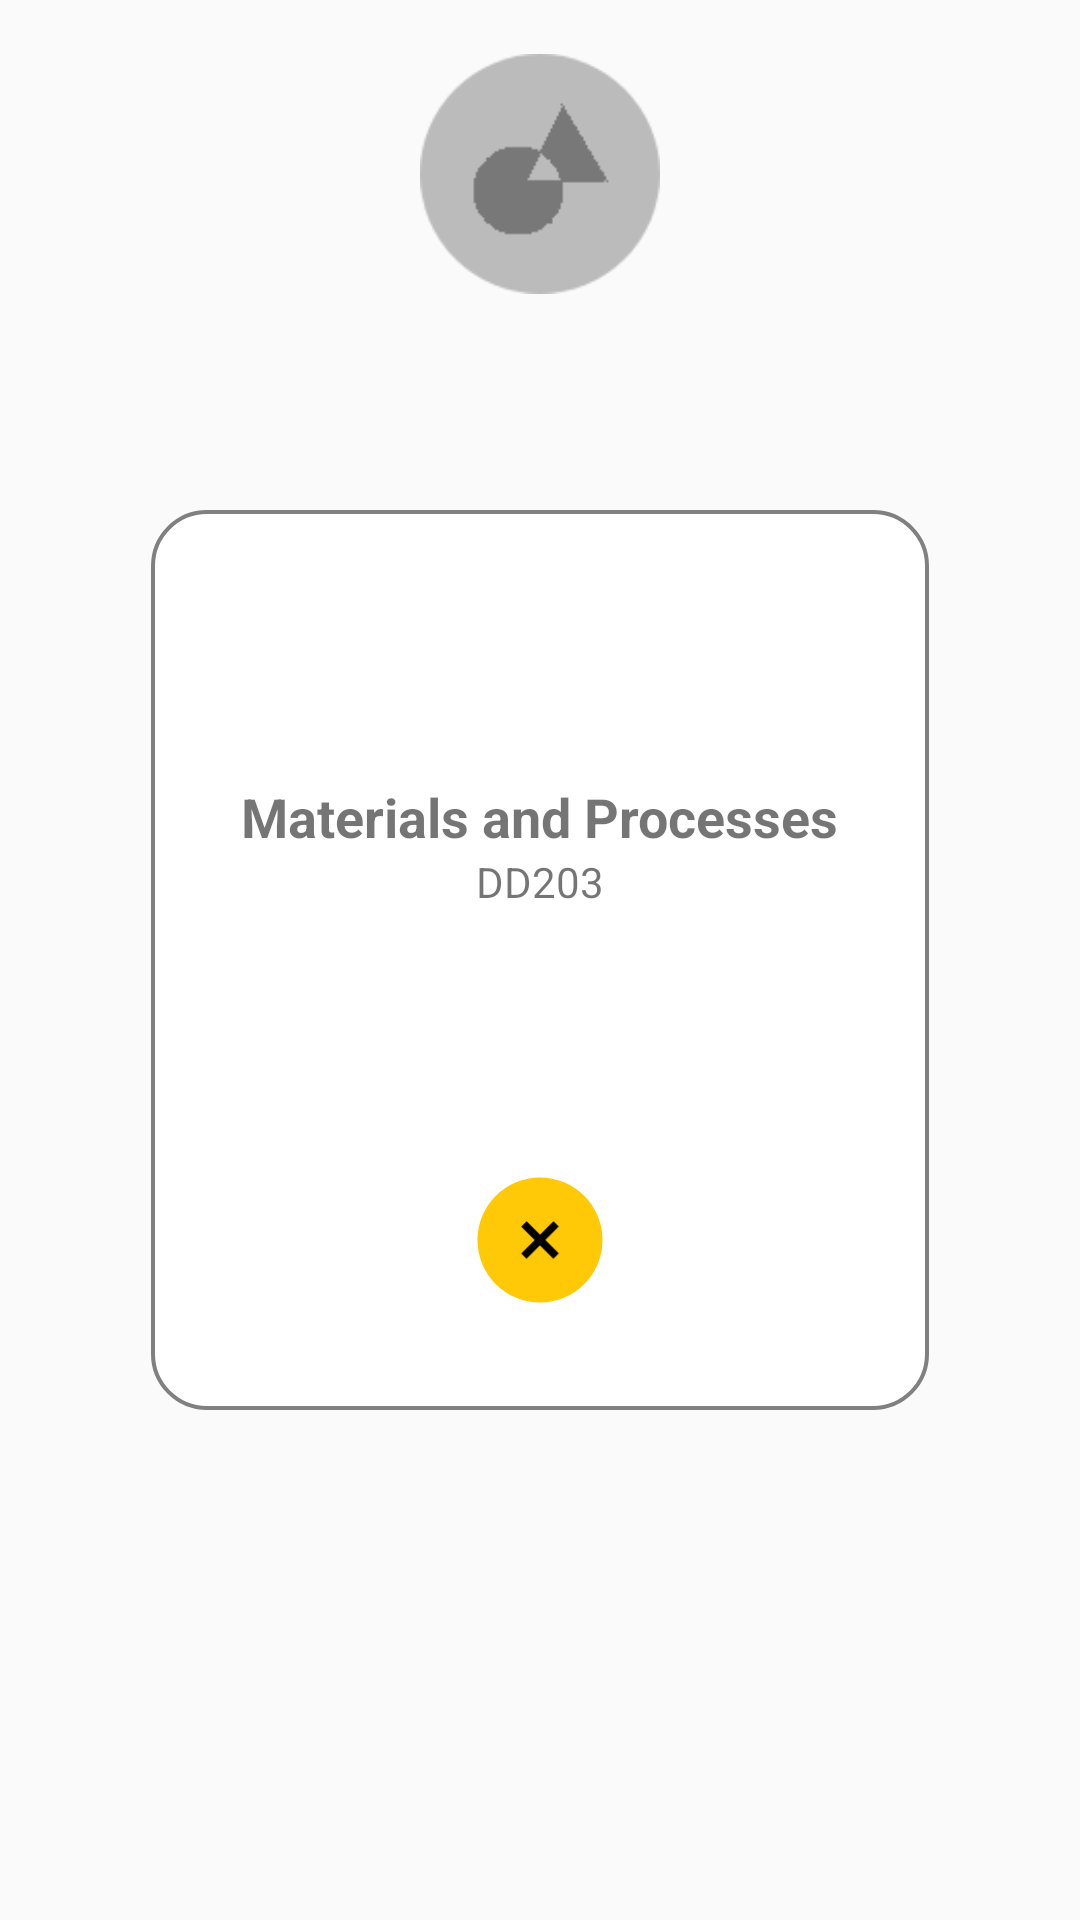

Point at icon controls on the screen. Image size 1080px x 1920px, points as [x,y].
cancel: [540,1240]
